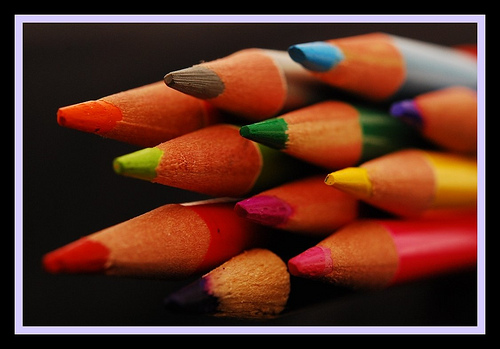pen_tip: (166, 38, 286, 116)
